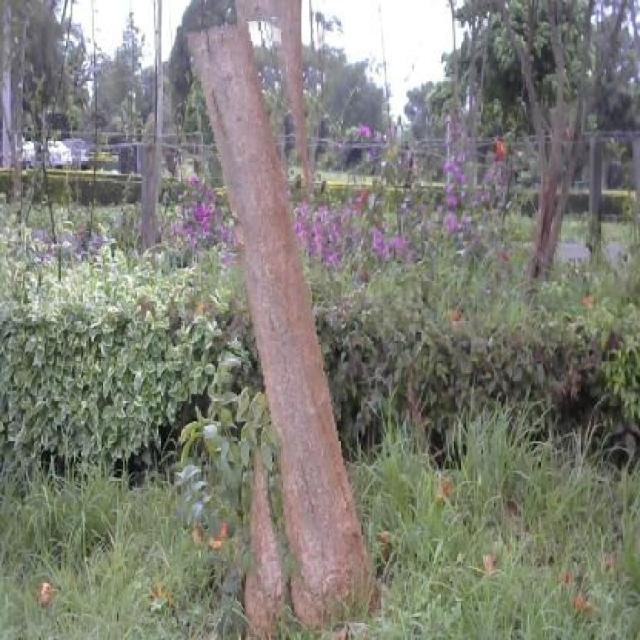tree trunk: (211, 18, 357, 631)
